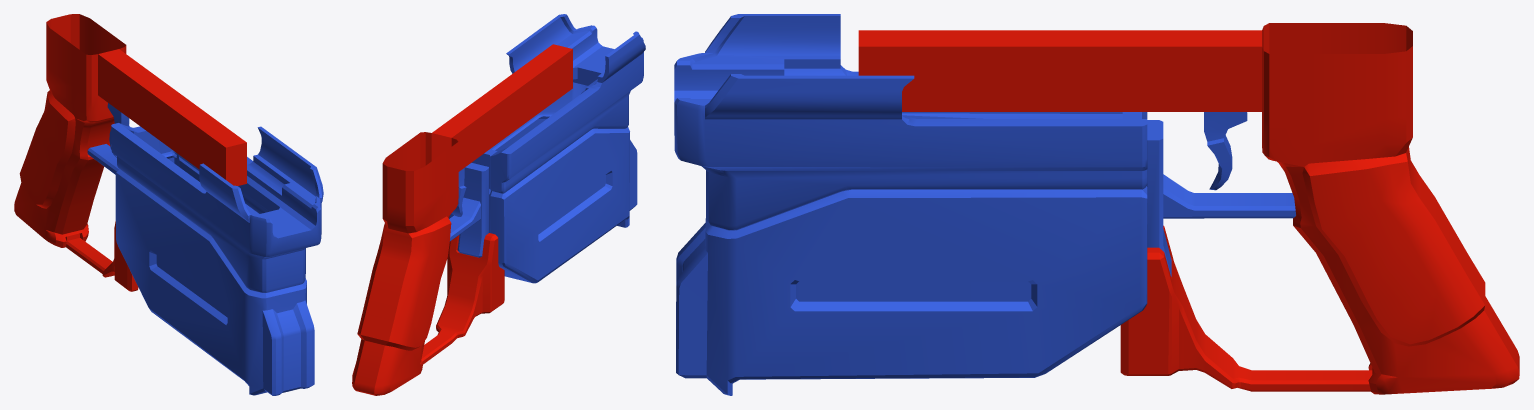
File: handle2.fbx
The picture shows the model from 3 angles, left to right: view 1: azimuth 30°, elevation 25°; view 2: azimuth 150°, elevation 25°; view 3: azimuth 270°, elevation 25°; orthographic projection. The views are drawn at different scales.
Parts seen in each view (by area): view 1: handle2; view 2: handle2; view 3: handle2.
Boxes of the visible parts, bbox=[...] form: handle2: bbox=[14, 14, 323, 395]; handle2: bbox=[352, 14, 645, 395]; handle2: bbox=[674, 14, 1519, 395].
Size of the model in its own units: 0.0844 by 0.2079 by 0.4575.
